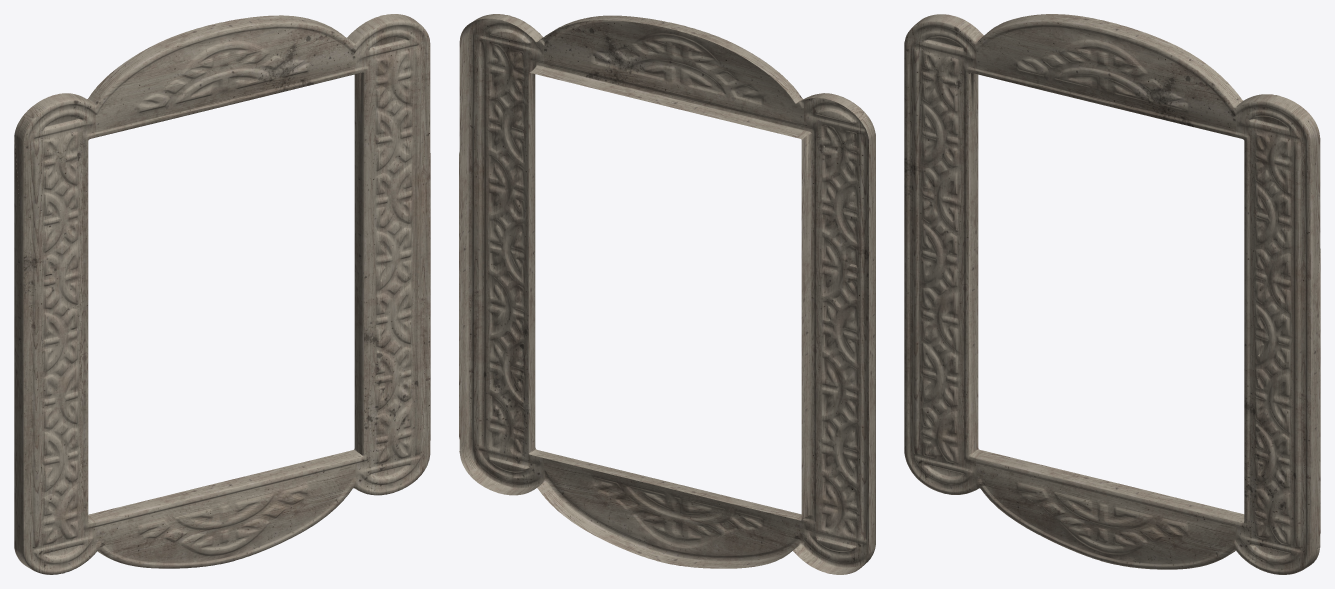
File: FrameWood.FBX
The picture shows the model from 3 angles, left to right: view 1: azimuth 30°, elevation 25°; view 2: azimuth 150°, elevation 25°; view 3: azimuth 330°, elevation 25°; orthographic projection.
Parts seen in each view (by area): view 1: Group13050; view 2: Group13050; view 3: Group13050.
Boxes of the visible parts, x1=… form: Group13050: x1=14, y1=14, x2=430, y2=574; Group13050: x1=459, y1=14, x2=875, y2=574; Group13050: x1=904, y1=14, x2=1320, y2=574.
Size of the model in its own units: 147 by 184 by 6.39.
Materials: 1 (1 with a texture image).
